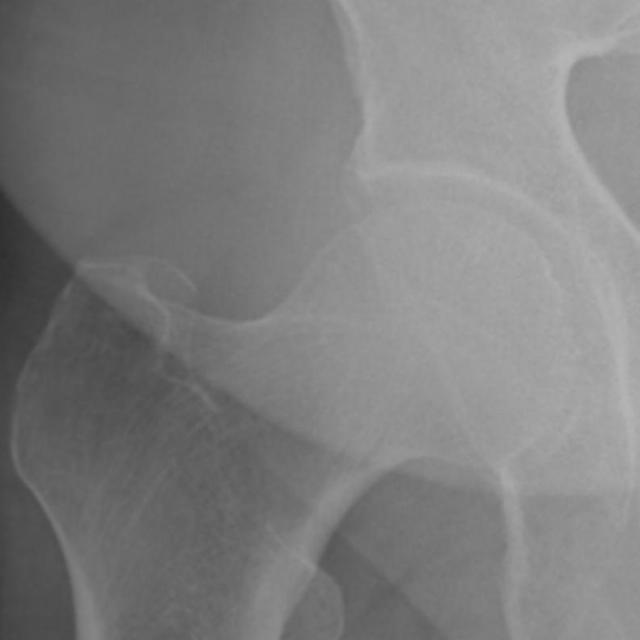Fitted_femural_head: (288, 205, 432, 288)
